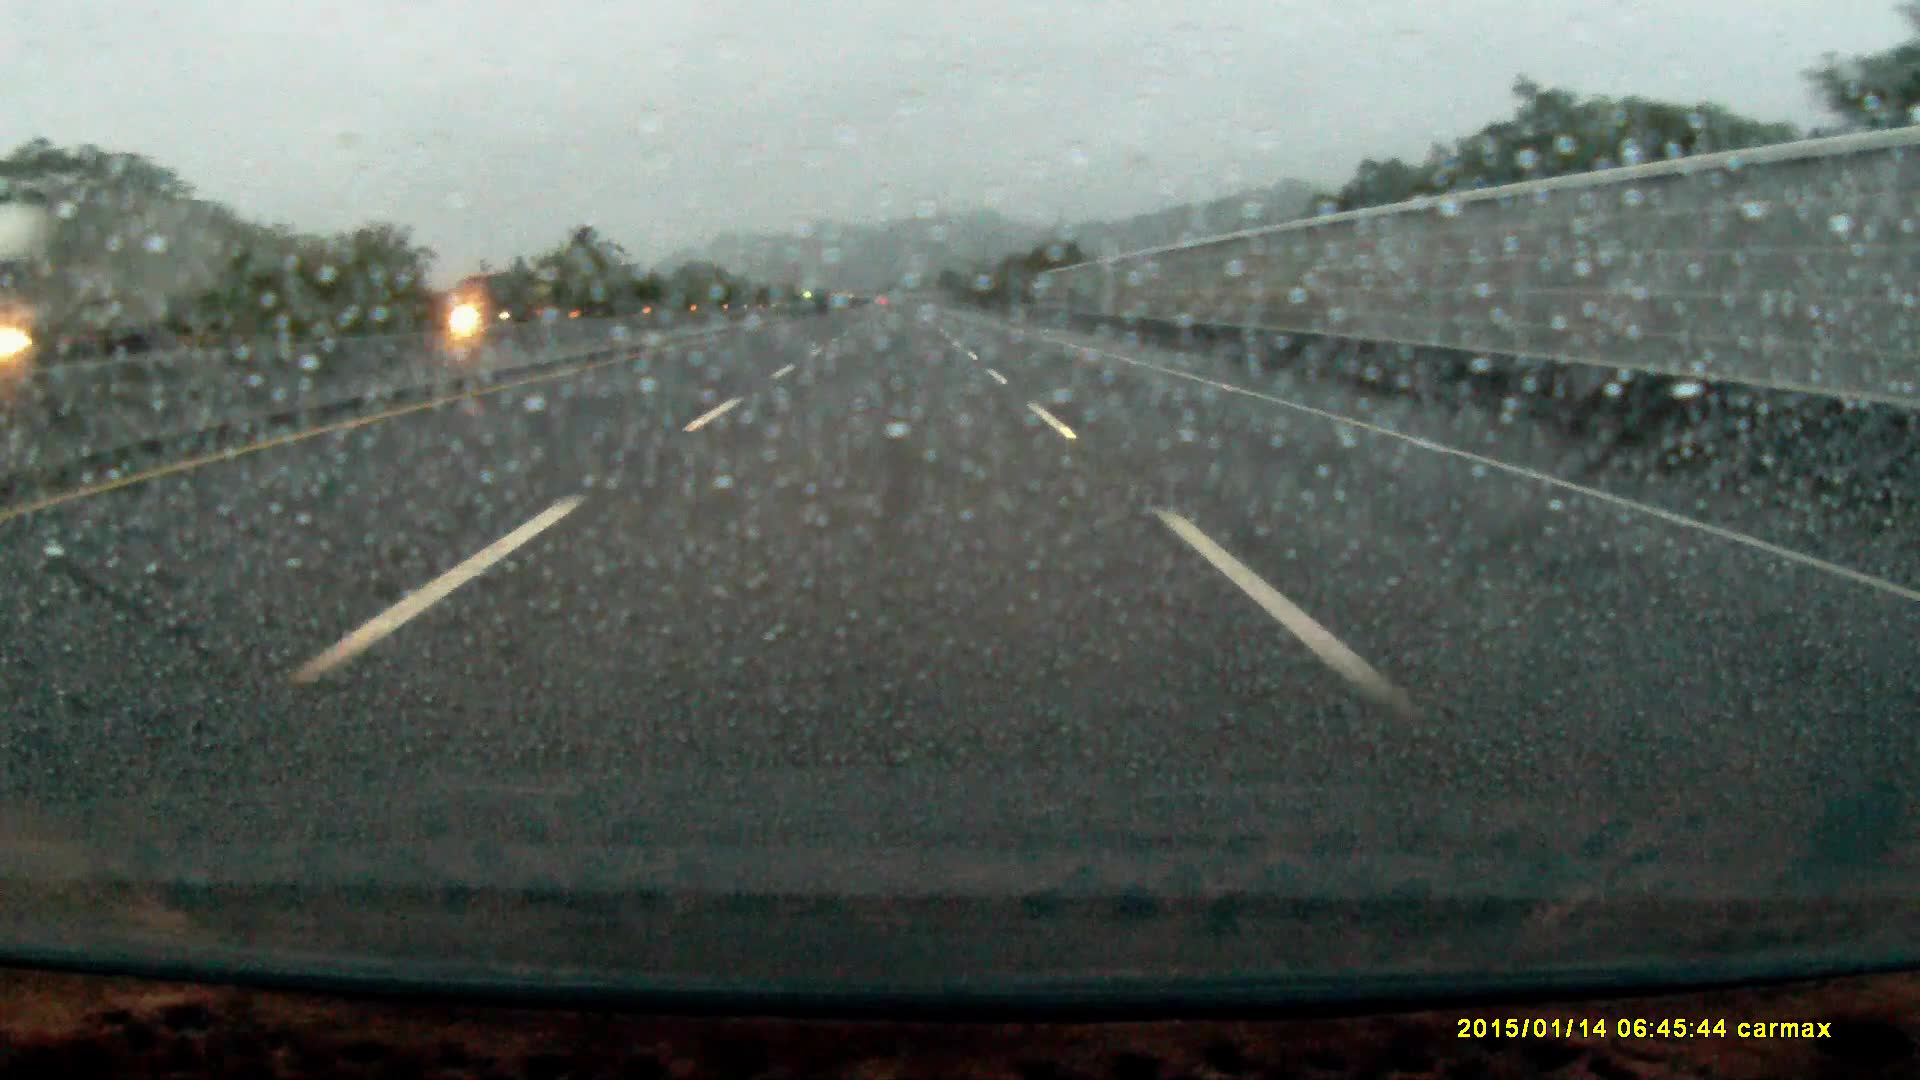vehicle: (5, 193, 240, 367), (459, 278, 554, 324)
